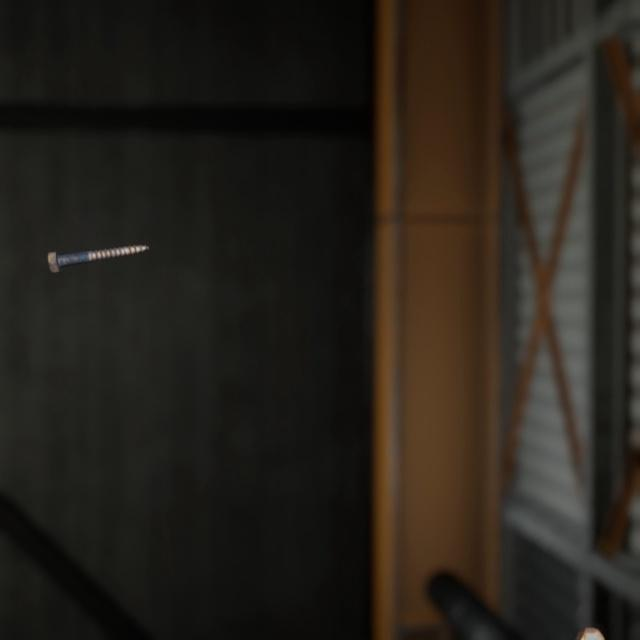bolt: (43, 224, 154, 261), (515, 597, 610, 640)
